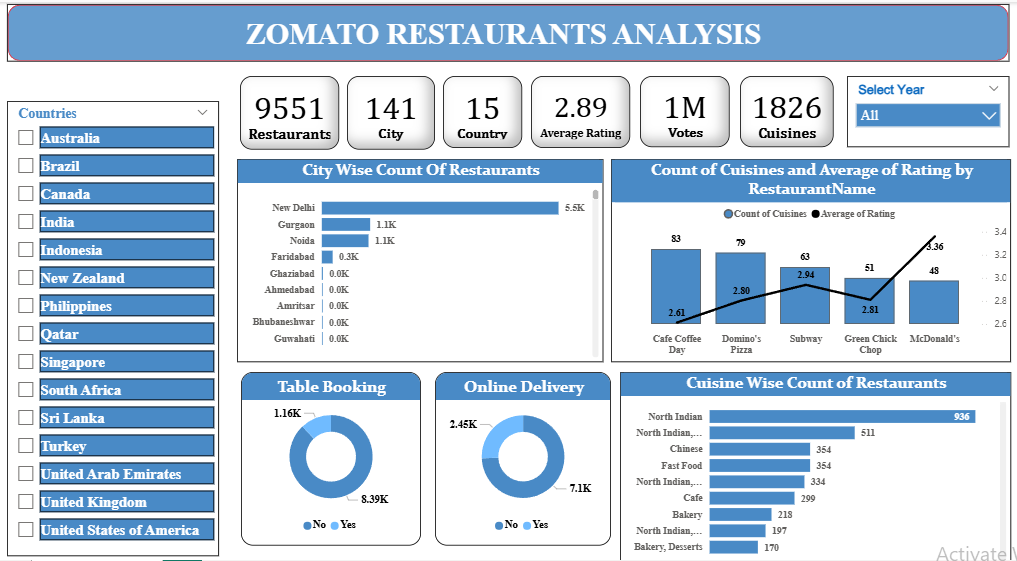

The dashboard page shown, as its layout file describes it:
{"tool":"powerbi","page":{"name":"Zomato_analysis","canvas":[1280,720],"ordinal":0},"visuals":[{"type":"shape","box":[13.1,13.1,1252.8,72],"z":0},{"type":"textbox","box":[278.8,23.6,708.2,61.5],"z":1000},{"type":"card","fields":{"Values":["CountNonNull(Restaurtant.RestaurantID)"]},"box":[303.7,102.1,124.4,91.6],"z":2000},{"type":"card","fields":{"Values":["Count(Restaurtant.City)"]},"box":[437.2,102.1,110,91.6],"z":3000},{"type":"card","fields":{"Values":["Count(Restaurtant.CountryCode)"]},"box":[557.7,102.1,99.5,90.3],"z":4000},{"type":"card","fields":{"Values":["Avg(Restaurtant.Rating)"]},"box":[667.6,102.1,124.4,90.3],"z":5000},{"type":"card","fields":{"Values":["Sum(Restaurtant.Votes)"]},"box":[803.8,102.5,112.3,89.5],"z":6000},{"type":"card","fields":{"Values":["Count(Restaurtant.Cuisines)"]},"box":[929.1,102.5,117.2,89.5],"z":7000},{"type":"slicer","fields":{"Values":["Countries.country name"]},"box":[13,133.4,265.2,569.5],"z":8000},{"type":"lineStackedColumnComboChart","fields":{"Y":["CountNonNull(Restaurtant.Cuisines)"],"Category":["Restaurtant.RestaurantName"],"Y2":["Avg(Restaurtant.Rating)"]},"box":[767.5,205.6,500.3,254.2],"z":9000},{"type":"clusteredBarChart","title":"City Wise Count Of Restaurants","fields":{"Category":["Restaurtant.City"],"Y":["CountNonNull(Restaurtant.RestaurantID)"]},"box":[299.6,205.6,458.2,254.2],"z":10000},{"type":"donutChart","title":"Online Delivery","fields":{"Category":["Restaurtant.Has_Online_delivery"],"Y":["CountNonNull(Restaurtant.RestaurantID)"]},"box":[547.3,472.8,220.2,217],"z":11000},{"type":"clusteredBarChart","title":"Cuisine Wise Count of Restaurants","fields":{"Y":["CountNonNull(Restaurtant.RestaurantID)"],"Category":["Restaurtant.Cuisines"]},"box":[778.8,472.8,489,242.9],"z":12000},{"type":"donutChart","title":"Table Booking","fields":{"Category":["Restaurtant.Has_Table_booking"],"Y":["CountNonNull(Restaurtant.RestaurantID)"]},"box":[304.4,472.8,225.1,217],"z":13000},{"type":"slicer","fields":{"Values":["Restaurtant.Datekey_Opening"]},"box":[1062.5,102.5,203.4,89.5],"z":14000}]}

Visuals, with their boxes in screenshot pixels (x1, y1, x2, y2), scaled from the page's 1280x720 canvas onto the 1017x561 screenshot:
shape: BBox(10, 10, 1006, 66)
textbox: BBox(222, 18, 784, 66)
card - CountNonNull(Restaurtant.RestaurantID): BBox(241, 80, 340, 151)
card - Count(Restaurtant.City): BBox(347, 80, 435, 151)
card - Count(Restaurtant.CountryCode): BBox(443, 80, 522, 150)
card - Avg(Restaurtant.Rating): BBox(530, 80, 629, 150)
card - Sum(Restaurtant.Votes): BBox(639, 80, 728, 150)
card - Count(Restaurtant.Cuisines): BBox(738, 80, 831, 150)
slicer - Countries.country name: BBox(10, 104, 221, 548)
lineStackedColumnComboChart - CountNonNull(Restaurtant.Cuisines) x Restaurtant.RestaurantName: BBox(610, 160, 1007, 358)
"City Wise Count Of Restaurants" clusteredBarChart: BBox(238, 160, 602, 358)
"Online Delivery" donutChart: BBox(435, 368, 610, 537)
"Cuisine Wise Count of Restaurants" clusteredBarChart: BBox(619, 368, 1007, 558)
"Table Booking" donutChart: BBox(242, 368, 421, 537)
slicer - Restaurtant.Datekey_Opening: BBox(844, 80, 1006, 150)
